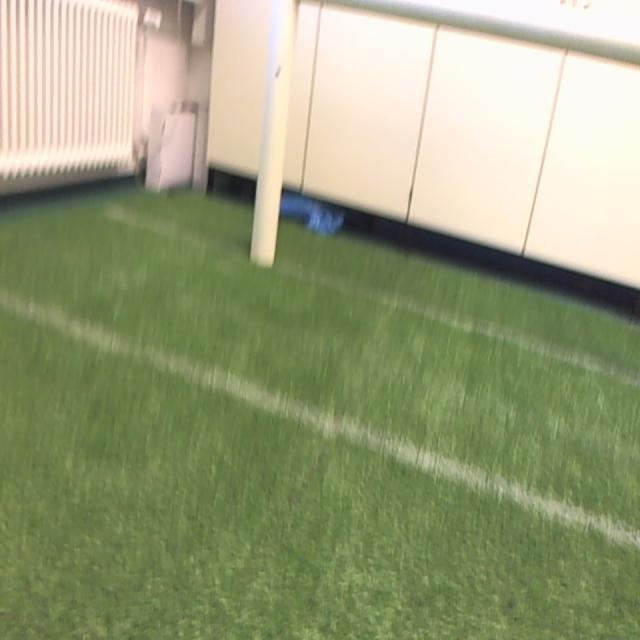goalpost: (249, 2, 298, 265)
